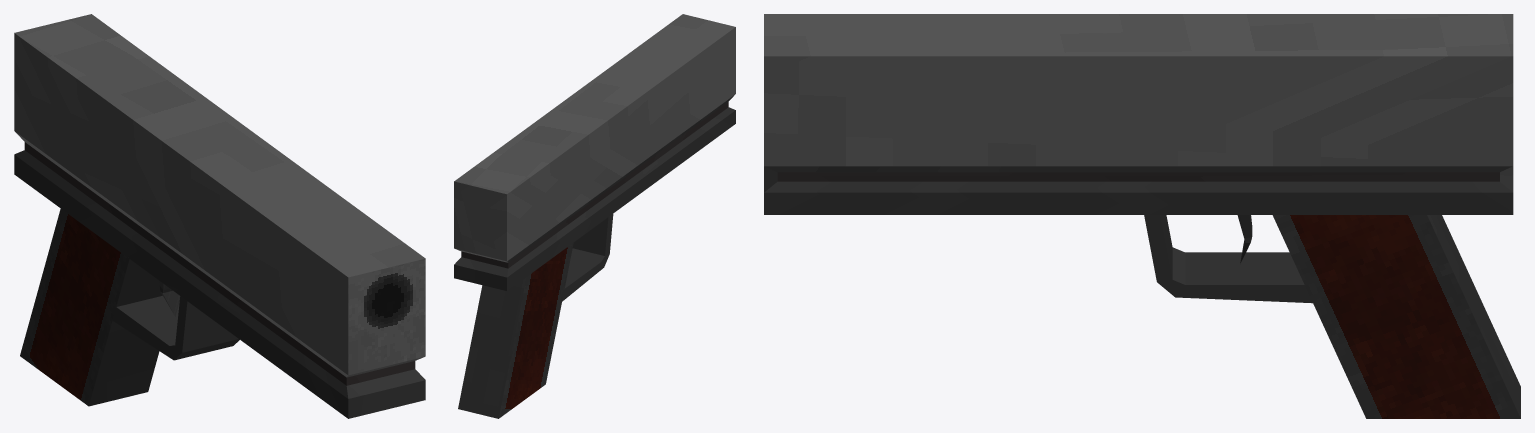
File: pistol.glb
The picture shows the model from 3 angles, left to right: view 1: azimuth 30°, elevation 25°; view 2: azimuth 150°, elevation 25°; view 3: azimuth 270°, elevation 25°; orthographic projection. The views are drawn at different scales.
Visible parts, largest first — view 1: Cube.001; view 2: Cube.001; view 3: Cube.001.
Part boxes in pixels (box(x1,y1,x2,y2)): Cube.001: box(14, 14, 425, 418); Cube.001: box(454, 14, 735, 418); Cube.001: box(764, 14, 1520, 418).
Size of the model in its own units: 0.034 by 0.1375 by 0.2567.
Materials: 1 (1 with a texture image).
